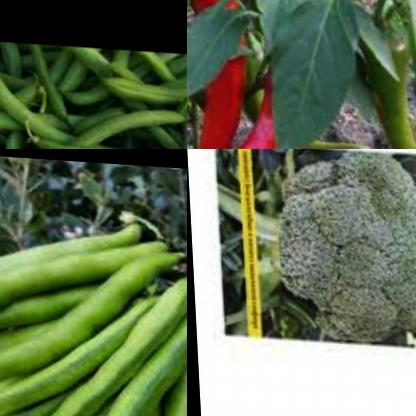beans: (0, 187, 187, 416), (0, 40, 187, 149)
broccoli: (268, 149, 416, 341)
hot pepper: (187, 47, 312, 149), (345, 0, 416, 149), (187, 0, 255, 149), (263, 117, 389, 149), (271, 114, 372, 149)
